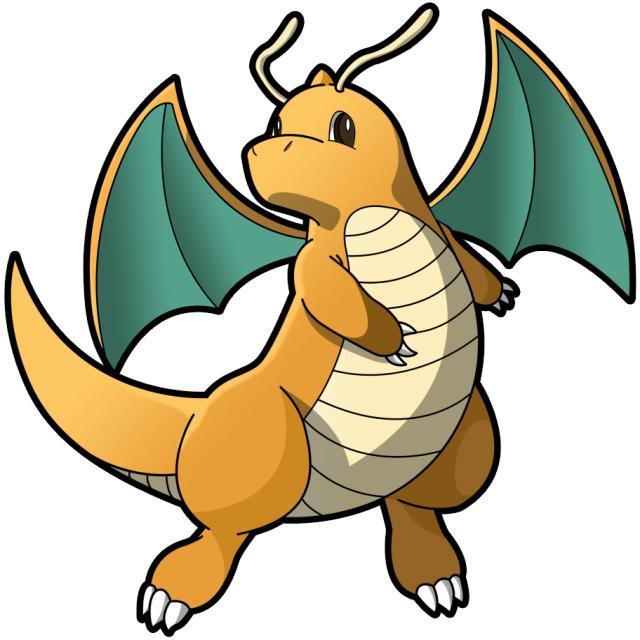Dragonite: (141, 67, 509, 612)
